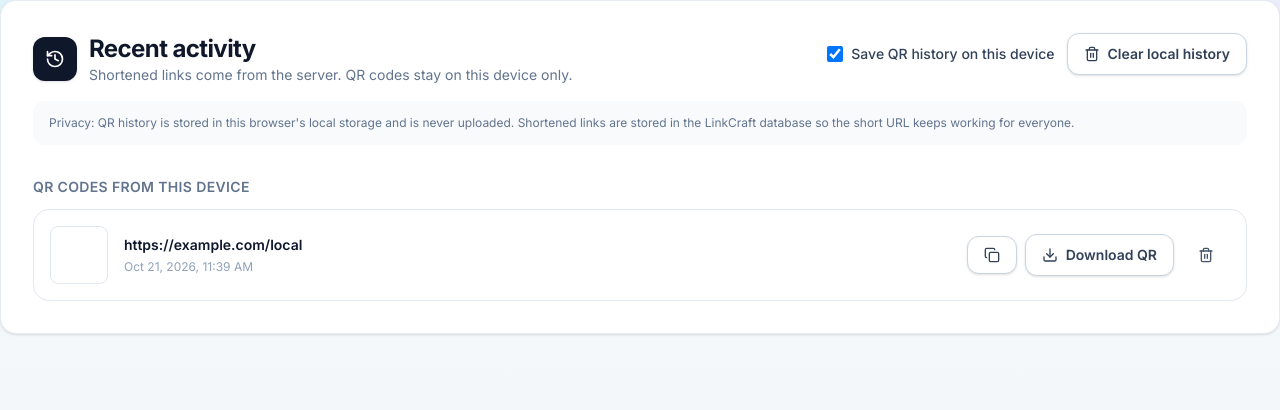
Test: HistoryList › can clear the local history
expect the text "https://example.com/local" is shown: met, box 124,236 -> 302,252
Click the button "Clear local history" at coordinates (1157, 54), box 1066,33 -> 1247,75
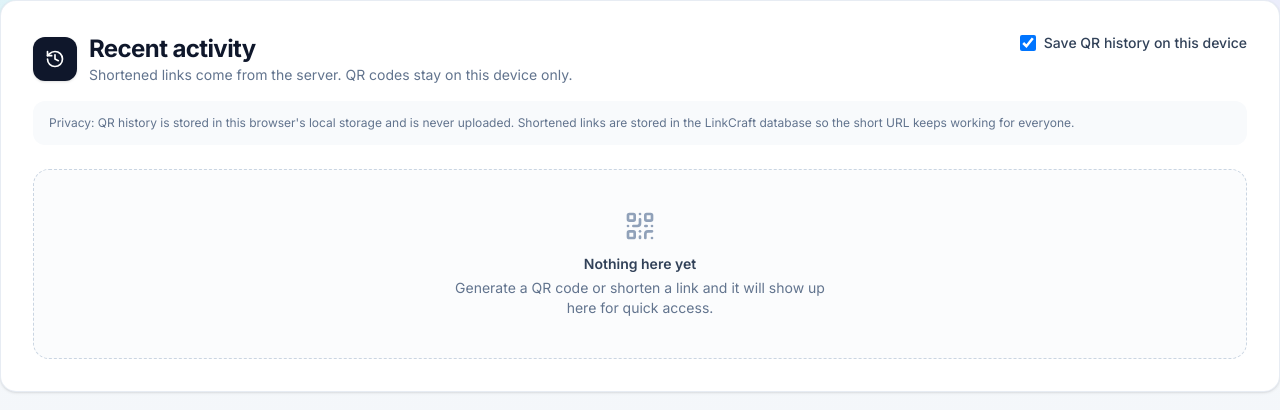
expect the text "https://example.com/local" is gone: met
